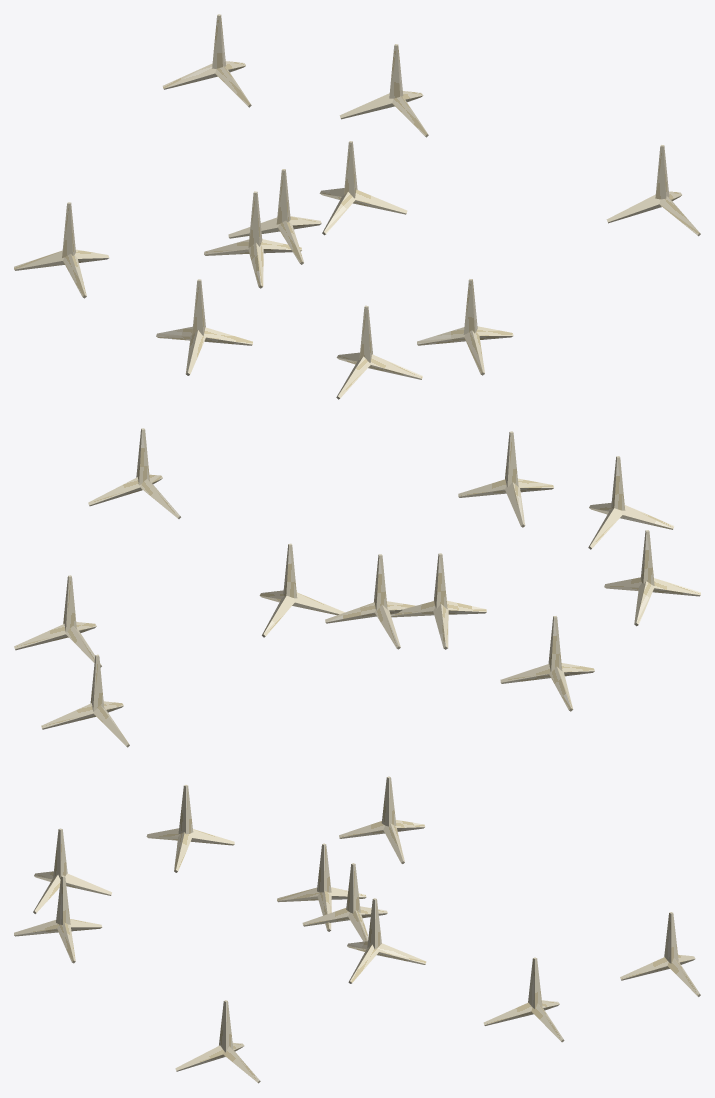
The model's file is tr_caltrops_teeth.glb.
3 renders of one model, top to bottom at view 1: azimuth 30°, elevation 25°; view 2: azimuth 150°, elevation 25°; view 3: azimuth 270°, elevation 25°, orthographic. The views are drawn at different scales.
Visible parts, largest first — view 1: no part large enough to name; view 2: block_spike (×17); view 3: block_spike (×10).
Part boxes in pixels (x1,y1,x2,y2): block_spike (×17): (14,428,674,729); block_spike (×10): (53,776,678,1052).
Bounding box in the file's own units: 0.5642 × 0.0684 × 0.6383.
Materials: 1 (1 with a texture image).
